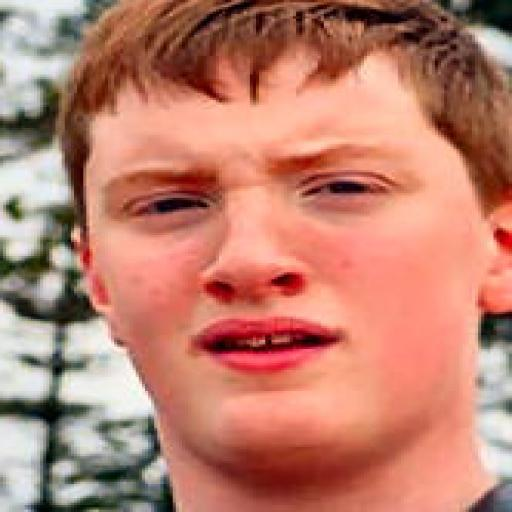Autism: (6, 9, 512, 512)
